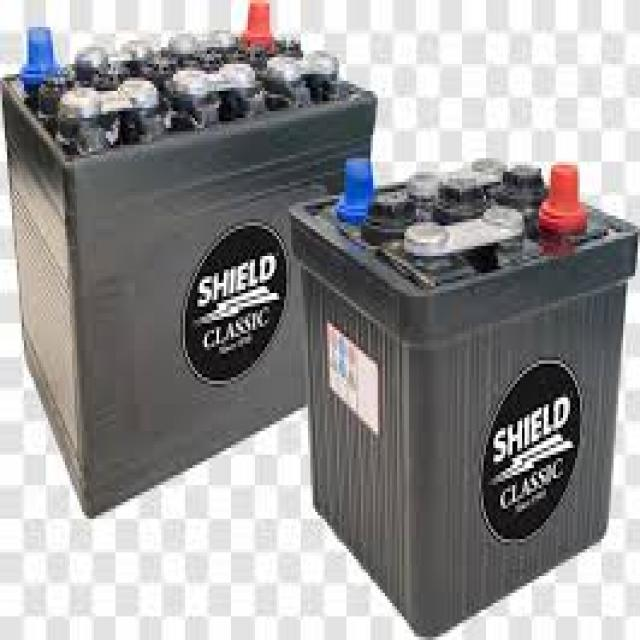non-organic waste: (4, 0, 379, 515), (288, 155, 638, 640)
